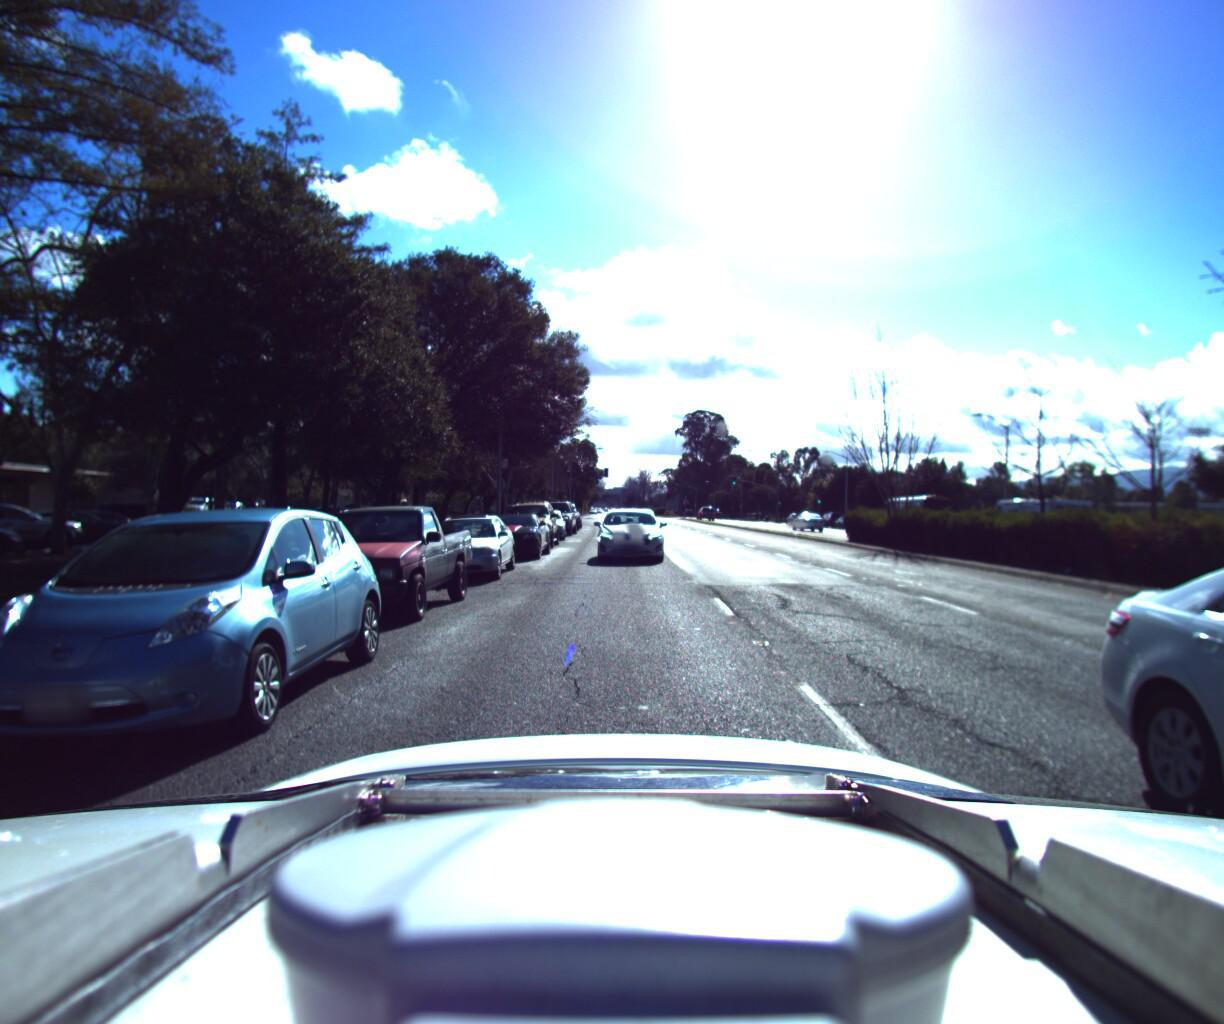bus: (879, 484, 955, 532)
car: (0, 496, 403, 798), (264, 494, 483, 627), (411, 505, 523, 580), (589, 501, 663, 560), (470, 504, 553, 556), (497, 490, 561, 544), (533, 491, 579, 530), (787, 500, 822, 525)
other_vehicle: (983, 483, 1097, 547)
